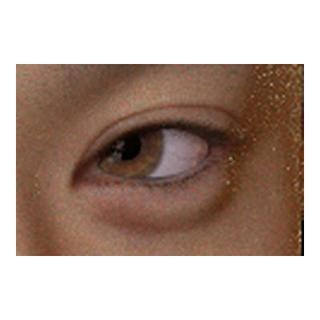pupil: (111, 131, 140, 159)
